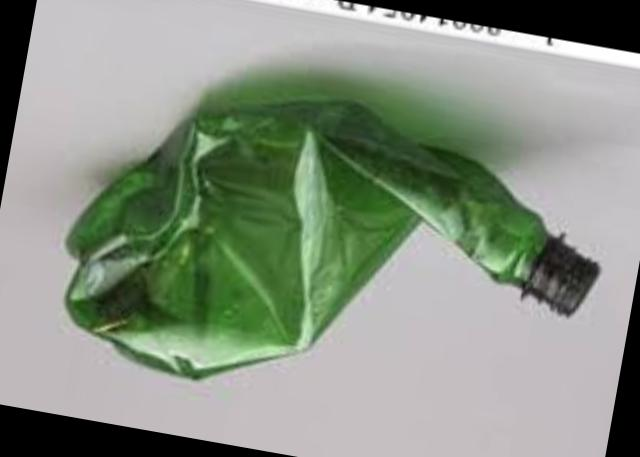plastic: (69, 105, 599, 383)
